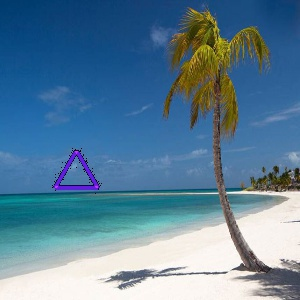triangle: (50, 146, 102, 193)
